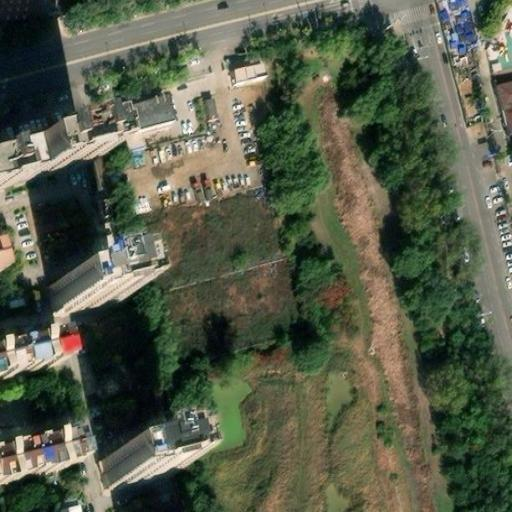building: (32, 123, 112, 175), (101, 435, 175, 489), (51, 258, 124, 312), (0, 430, 72, 480), (100, 93, 168, 136), (0, 330, 63, 376), (0, 134, 49, 166), (0, 155, 25, 192), (233, 56, 269, 81), (497, 5, 512, 64), (498, 79, 512, 132), (198, 91, 218, 118), (48, 498, 81, 512), (60, 128, 74, 137), (90, 121, 104, 129)
